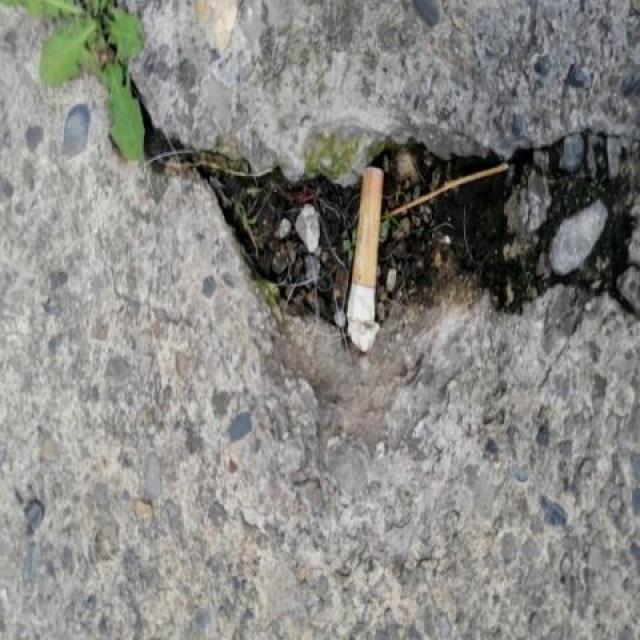non-organic waste: (340, 160, 384, 356)
